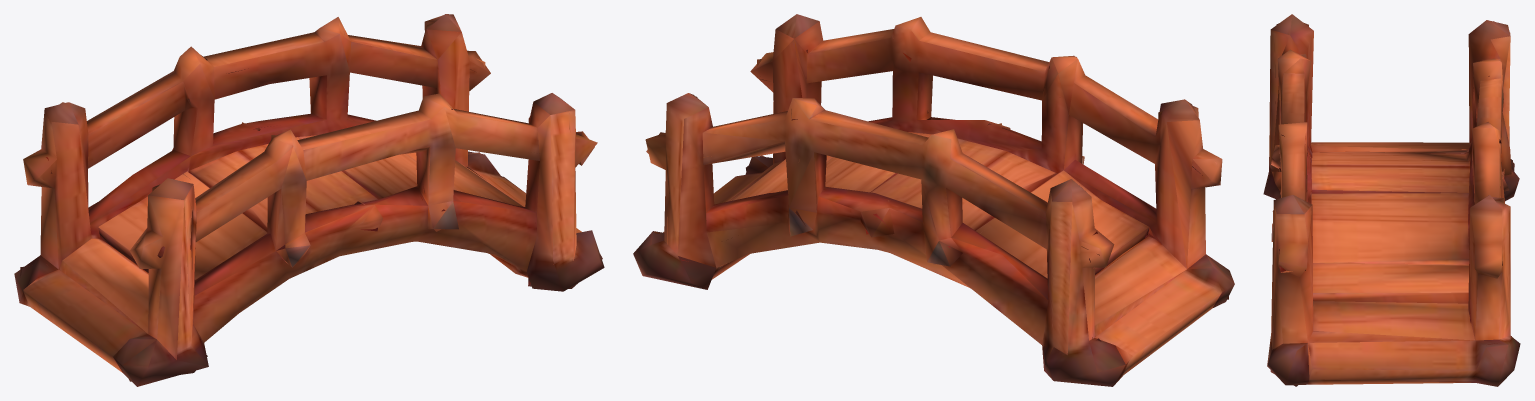
The model's file is sz-bridge.glb.
The picture shows the model from 3 angles, left to right: view 1: azimuth 30°, elevation 25°; view 2: azimuth 150°, elevation 25°; view 3: azimuth 270°, elevation 25°; orthographic projection. The views are drawn at different scales.
Parts seen in each view (by area): view 1: geometry_0; view 2: geometry_0; view 3: geometry_0.
Boxes of the visible parts, left/top/right/bottom form: geometry_0: left=14, top=14, right=604, bottom=386; geometry_0: left=633, top=14, right=1234, bottom=386; geometry_0: left=1263, top=14, right=1520, bottom=386.
Bounding box in the file's own units: 1 × 0.4223 × 0.501.
Materials: 1 (1 with a texture image).
